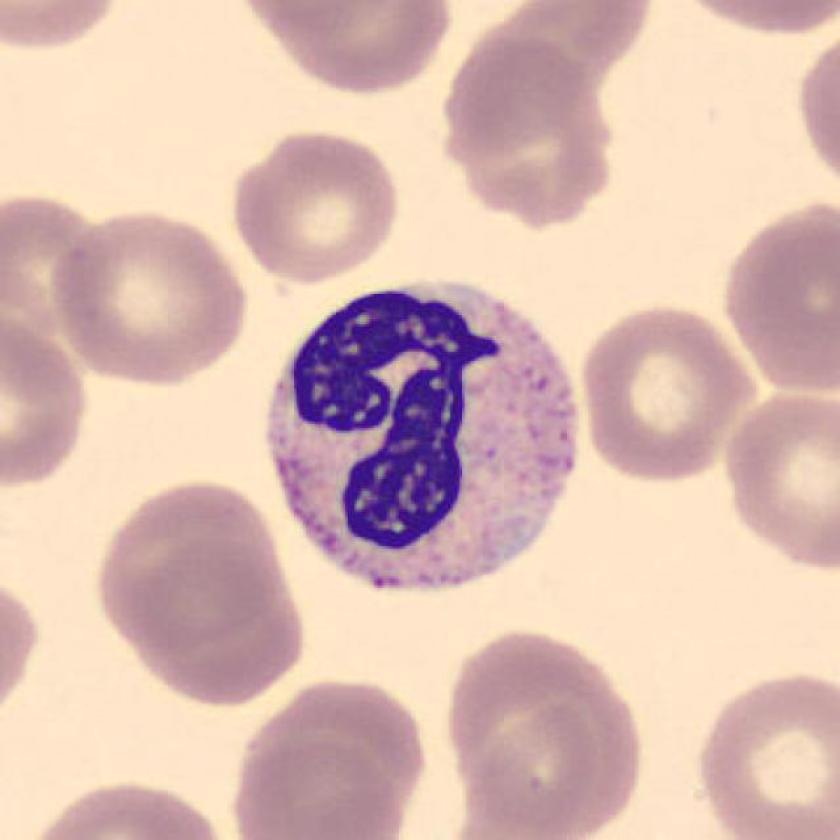neutrophil: (269, 286, 579, 590)
